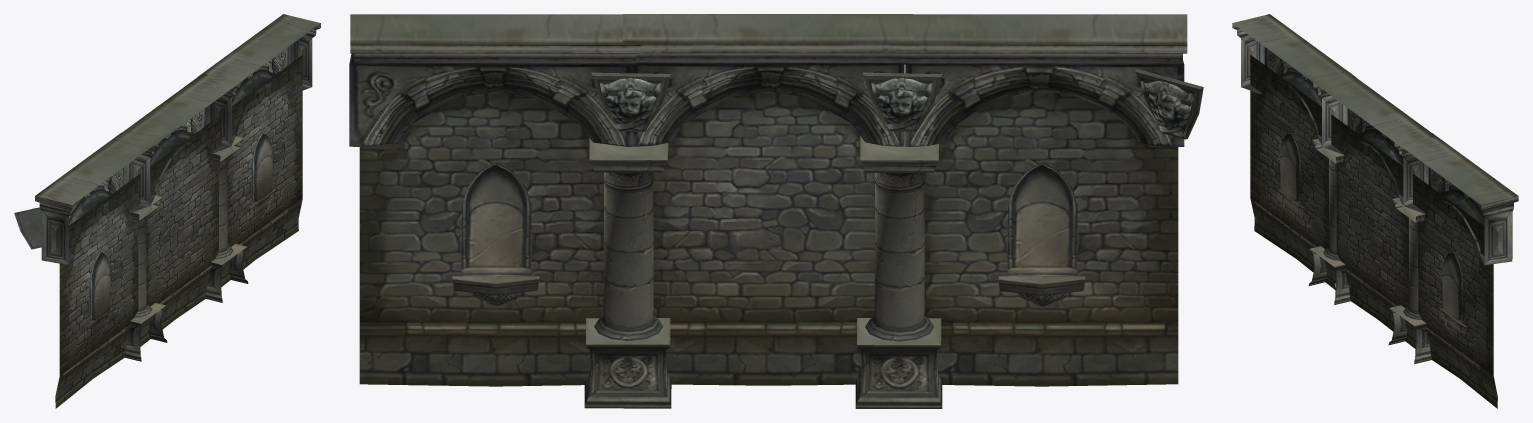
3 renders of one model, left to right at view 1: azimuth 30°, elevation 25°; view 2: azimuth 150°, elevation 25°; view 3: azimuth 270°, elevation 25°, orthographic. The views are drawn at different scales.
Visible parts, largest first — view 1: DN_1_4_dt01b; view 2: DN_1_4_dt01b; view 3: DN_1_4_dt01b.
Boxes of the visible parts, <box> form: DN_1_4_dt01b: <box>14,14,320,408</box>; DN_1_4_dt01b: <box>349,14,1203,408</box>; DN_1_4_dt01b: <box>1232,14,1518,408</box>.
Bounding box in the file's own units: 1316 × 651 × 802.
